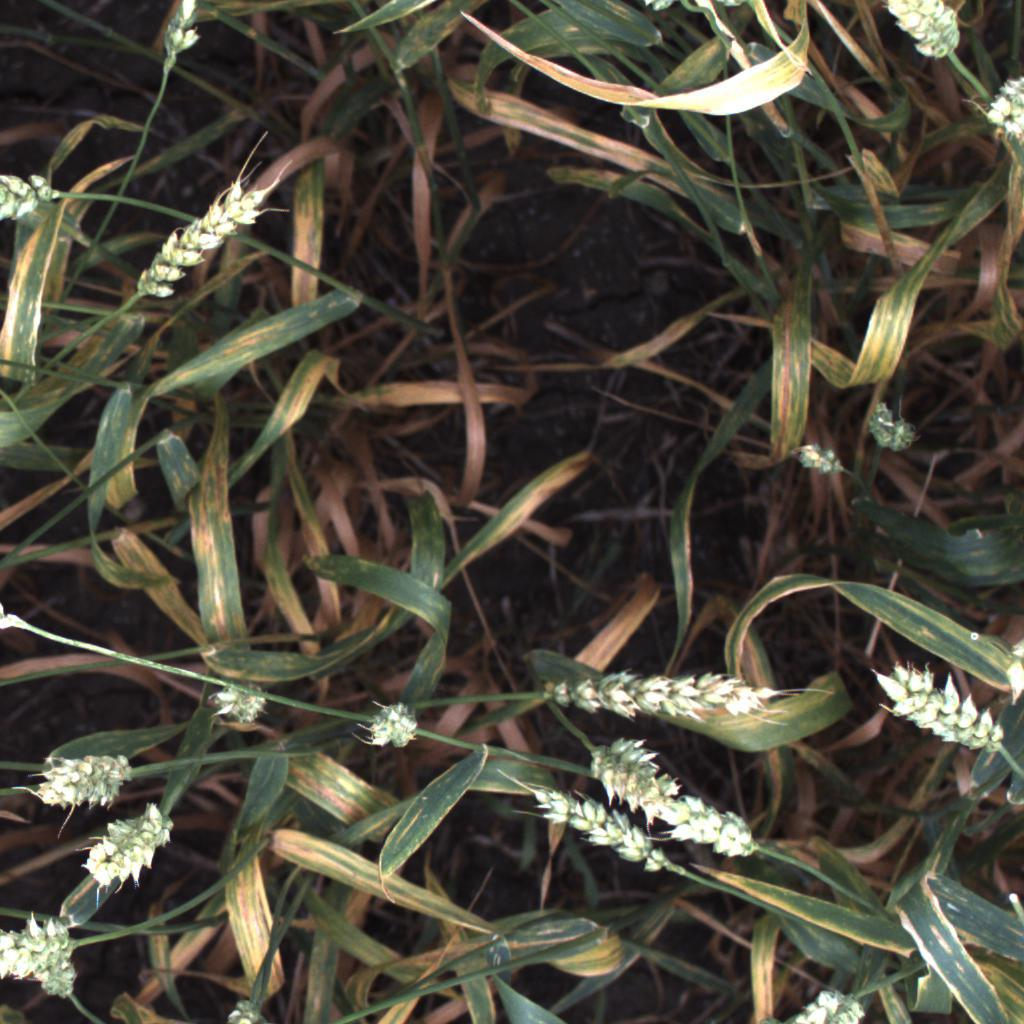0-0: (128, 168, 281, 301), (521, 777, 693, 880), (540, 664, 790, 728), (867, 658, 1008, 762), (571, 735, 697, 828), (80, 795, 181, 898), (657, 793, 775, 865), (16, 749, 139, 813), (0, 906, 85, 988), (874, 0, 969, 69), (203, 663, 274, 732), (24, 945, 100, 1008), (0, 161, 68, 231), (151, 0, 215, 72), (970, 69, 1024, 153), (782, 979, 881, 1024), (361, 698, 426, 754), (787, 429, 849, 484), (857, 404, 915, 455), (995, 638, 1024, 710)
